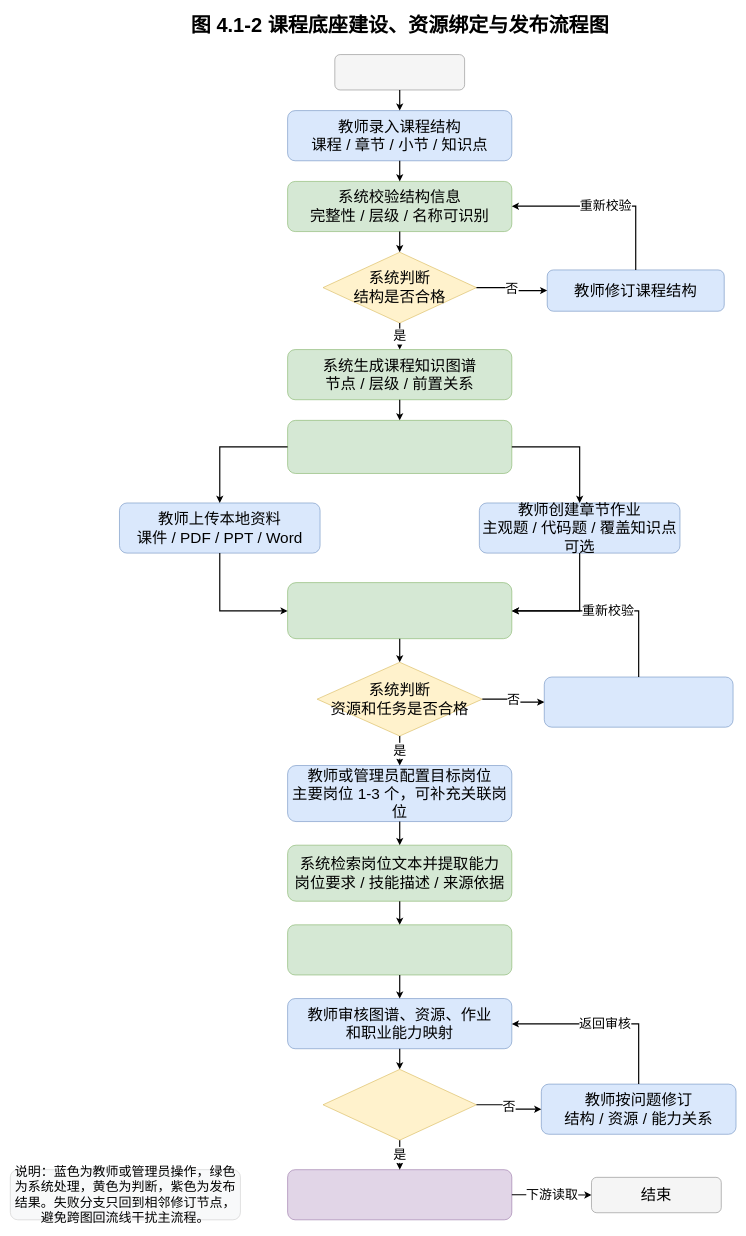
The diagram is 746 pixels wide and 1236 high, and some of its shapes have lost their labels. Here are the shapes that lost their labels. From the top down, the box of each, then its label:
(334, 54, 465, 90): 开始
(287, 420, 512, 473): 系统自动绑定外部资源 B站 / YouTube / CSDN / 技术博客
(287, 582, 512, 639): 系统校验资源与任务绑定 格式 / 转换 / RAG / 课程节点
(544, 676, 733, 727): 教师补充或修正 资源 / 作业 / 绑定关系
(287, 924, 512, 975): 系统匹配叶子知识点 生成能力映射草案
(322, 1069, 476, 1140): 教师判断 是否发布
(287, 1169, 512, 1220): 系统发布课程底座 下游仅读取已发布版本
